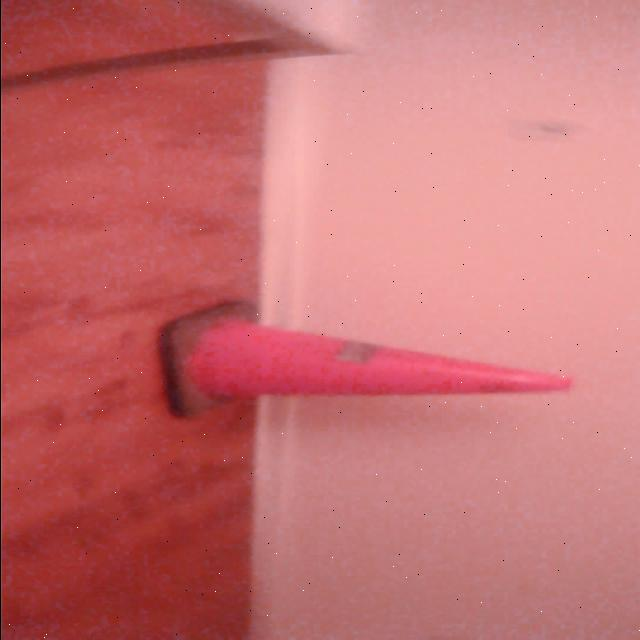traffic cone: (150, 297, 582, 425)
